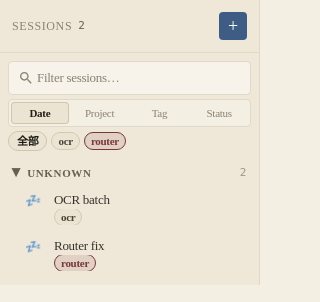
ChatSidebar — pin, tags, menu › filters the list when a tag chip is clicked
What coordinates should you click on to do the following:
click the 1st button titled "#ocr · 1 个会话"
I would click on:
 (66, 141)
Its box is x1=52 y1=132 x2=80 y2=150.
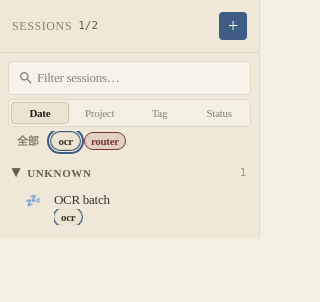
Check: the text "OCR batch" is shown, box x1=54 y1=192 x2=110 y2=207
Check: the button "Router fix" is gone
What coordinates should you click on to do the following:
click the button "全部"
I would click on:
 (28, 141)
Its box is x1=8 y1=131 x2=48 y2=151.
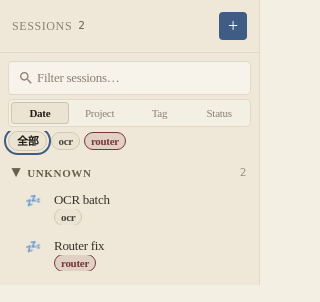
Check: the text "Router fix" is shown, box x1=54 y1=238 x2=104 y2=253
